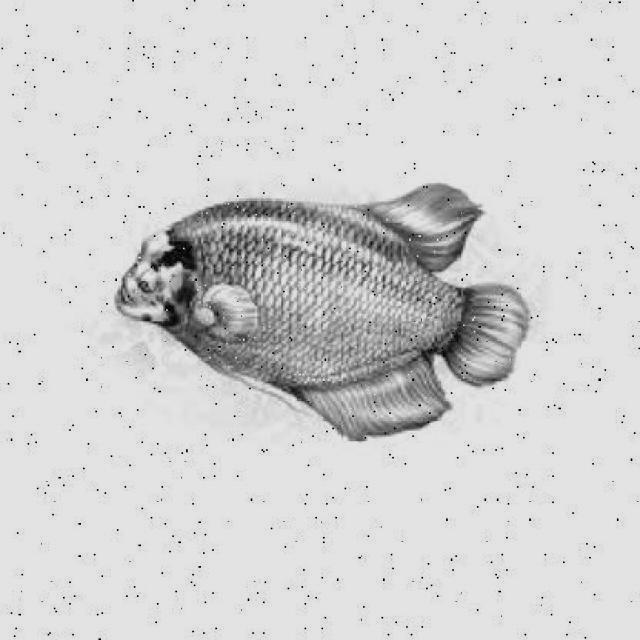gurame: (118, 186, 534, 442)
